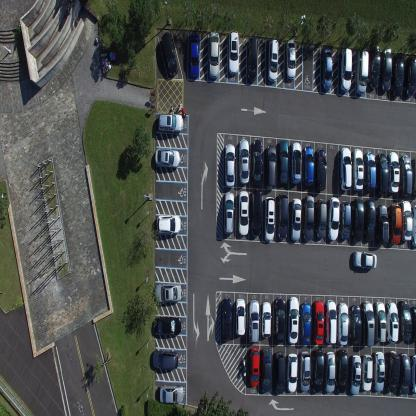car: (160, 30, 178, 76), (354, 48, 369, 94), (391, 51, 405, 98), (311, 299, 325, 345), (339, 47, 353, 92), (338, 146, 352, 191), (385, 350, 400, 392), (158, 111, 184, 135), (251, 188, 263, 238), (287, 295, 299, 345), (208, 30, 220, 79), (385, 301, 399, 343), (264, 145, 277, 190), (153, 314, 182, 334), (251, 139, 263, 187), (303, 194, 315, 242), (276, 192, 288, 240), (324, 298, 336, 346), (348, 354, 362, 395), (335, 349, 348, 393), (154, 147, 181, 168), (352, 196, 364, 243), (327, 195, 339, 242), (362, 299, 374, 346), (154, 282, 182, 302), (387, 204, 401, 244), (224, 142, 236, 188), (263, 196, 275, 242), (238, 138, 250, 184), (312, 348, 324, 394), (152, 349, 178, 370), (223, 190, 235, 235), (267, 37, 279, 82), (380, 47, 392, 92), (315, 146, 327, 191), (188, 31, 199, 80), (278, 139, 289, 187), (351, 148, 363, 192), (260, 348, 272, 392), (273, 350, 285, 394), (375, 204, 388, 244), (238, 189, 249, 236), (274, 297, 285, 344), (388, 150, 400, 193), (363, 152, 376, 191), (228, 29, 239, 75), (247, 36, 258, 82), (403, 56, 415, 98), (376, 152, 388, 194), (364, 198, 376, 240), (400, 154, 412, 196), (374, 301, 386, 343), (373, 350, 385, 392), (156, 214, 181, 234), (290, 197, 301, 242), (300, 301, 311, 346), (339, 199, 351, 240), (291, 142, 302, 186), (249, 299, 260, 343), (399, 351, 410, 395), (353, 250, 377, 270), (315, 198, 327, 238), (286, 352, 298, 392), (350, 304, 362, 344), (285, 38, 296, 81), (321, 48, 332, 91), (299, 349, 310, 392), (337, 301, 348, 344), (158, 385, 184, 403), (399, 299, 410, 341), (249, 346, 260, 387), (370, 45, 380, 90), (361, 354, 373, 391), (221, 298, 231, 342), (325, 351, 335, 393), (235, 298, 246, 336), (402, 199, 412, 240), (304, 147, 314, 187), (262, 301, 272, 338), (410, 354, 416, 394), (410, 305, 416, 342), (411, 204, 416, 248), (412, 156, 416, 196)
